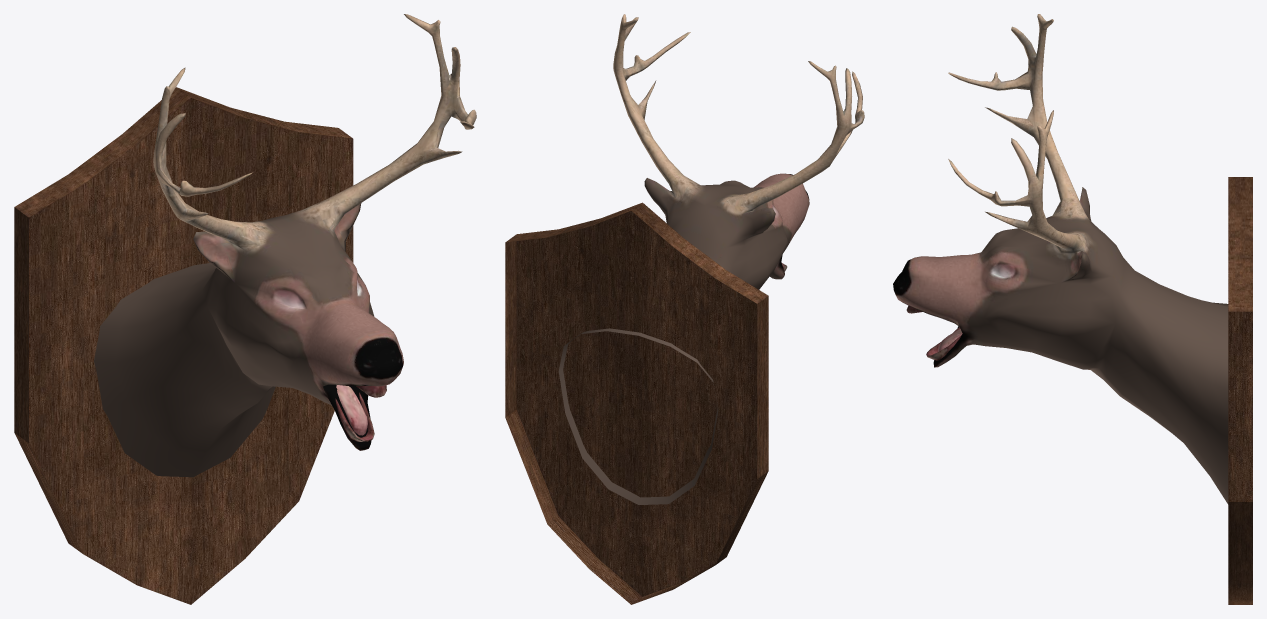
Rendered from trophy_deer.glb.
3 views of the same model, side by side, from view 1: azimuth 30°, elevation 25°; view 2: azimuth 150°, elevation 25°; view 3: azimuth 270°, elevation 25° (orthographic). The views are drawn at different scales.
Parts seen in each view (by area): view 1: deertroph_trophy_0, Object_7; view 2: deertroph_trophy_0, Object_7; view 3: Object_7, deertroph_trophy_0.
Boxes of the visible parts, x1,y1,x2,y2 form: deertroph_trophy_0: (14,87,353,604); Object_7: (94,14,476,477); deertroph_trophy_0: (505,202,768,604); Object_7: (558,14,864,504); Object_7: (893,14,1228,504); deertroph_trophy_0: (1228,177,1252,604).
Size of the model in its own units: 1.61 by 3.03 by 1.83.
Materials: 2 (2 with a texture image).
